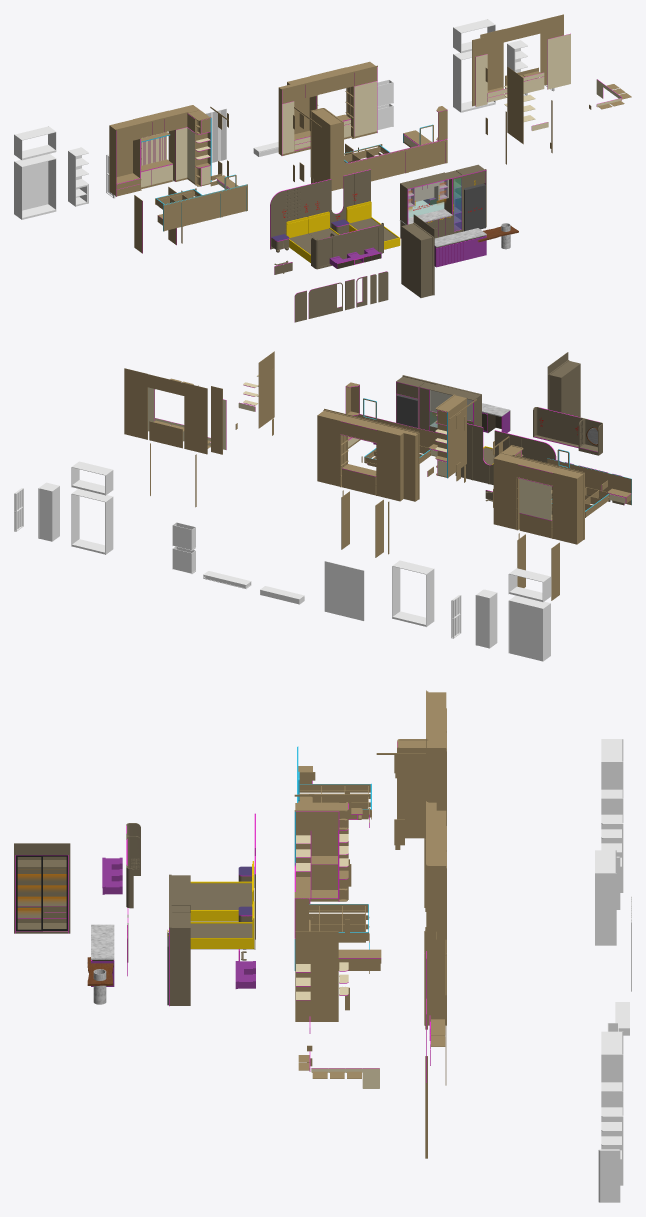
3 renders of one model, top to bottom at view 1: azimuth 30°, elevation 25°; view 2: azimuth 150°, elevation 25°; view 3: azimuth 270°, elevation 25°, orthographic. The views are drawn at different scales.
Visible parts, largest first — view 1: ABF_PART_32____LYR_[_HẬU]____32. Hậu, __LYR_[_REVIEW]__Group, __LYR_[_REVIEW]__Kệ tivi - _REVIEW, ABF_PART_361____LYR_[_VẬT_DỤNG]____361, ABF_PART_755____LYR_[Layer0]____755. Đầu giường <Chập đôi, c, ABF_PART_808____LYR_[Layer0]____808. Tủ áo - md 1 dưới - Hậu, ABF_PART_1462____LYR_[Layer0]____1462. Kệ tivi - Hậu, ABF_PART_1155____LYR_[Layer0]____1155. Đầu giường <Chập đôi,, ABF_PART_427____LYR_[Layer0]____427. Đầu giường <Chập đôi, c, ABF_PART_503____LYR_[Layer0]____503. Tủ áo - md 1 dưới - Hậu, ABF_PART_1477____LYR_[Layer0]____1477. Kệ tivi - Hậu, ABF_PART_707____LYR_[Layer0]____707. Hệ tủ áo - md 2 dưới -  (+27 smaller); view 2: ABF_PART_32____LYR_[_HẬU]____32. Hậu, ABF_PART_74____LYR_[Layer0]____74. Tấm nền, ABF_PART_728____LYR_[Layer0]____728. Hệ tủ áo - md dưới 3 - , ABF_PART_598____LYR_[Layer0]____598. Hệ tủ áo - md dưới 1 - , ABF_PART_552____LYR_[Layer0]____552. Hệ tủ áo - md 4 dưới - , ABF_PART_593____LYR_[Layer0]____593. Hệ tủ áo - md 2 dưới - , ABF_PART_679____LYR_[Layer0]____679. Hệ tủ áo - md 4 dưới - , ABF_PART_707____LYR_[Layer0]____707. Hệ tủ áo - md 2 dưới - , ABF_PART_1477____LYR_[Layer0]____1477. Kệ tivi - Hậu, ABF_PART_238____LYR_[Layer0]____238. Hệ tủ áo - Vách lam tiv, ABF_PART_808____LYR_[Layer0]____808. Tủ áo - md 1 dưới - Hậu, __LYR_[_REVIEW]__Kệ tivi - _REVIEW (+23 smaller); view 3: ABF_PART_808____LYR_[Layer0]____808. Tủ áo - md 1 dưới - Hậu, __LYR_[_REVIEW]__Group, ABF_PART_503____LYR_[Layer0]____503. Tủ áo - md 1 dưới - Hậu, ABF_PART_1357____LYR_[Layer0]____1357. Tủ lạnh - Hông phải, ABF_PART_22____LYR_[_THÙNG]____22. Hông trái, ABF_PART_786____LYR_[Layer0]____786. Hệ tủ áo - md dưới 4 - , ABF_PART_651____LYR_[Layer0]____651. Hệ tủ áo - md 4 dưới - , ABF_PART_661____LYR_[Layer0]____661. Hệ tủ áo - md 4 dưới - , ABF_PART_391____LYR_[Layer0]____391. Tấm cong, __LYR_[_REVIEW]__Kệ tivi - _REVIEW, ABF_PART_1361____LYR_[Layer0]____1361. Tủ áo - Hậu, ABF_PART_1425____LYR_[Layer0]____1425. Giường 2m bộc nệm - V (+5 smaller).
Boxes of the visible parts, <box> form: ABF_PART_32____LYR_[_HẬU]____32. Hậu: <box>18,160,48,210</box>; __LYR_[_REVIEW]__Group: <box>434,223,518,249</box>; __LYR_[_REVIEW]__Kệ tivi - _REVIEW: <box>311,223,383,269</box>; ABF_PART_361____LYR_[_VẬT_DỤNG]____361: <box>464,183,485,231</box>; ABF_PART_755____LYR_[Layer0]____755. Đầu giường <Chập đôi, c: <box>182,190,220,226</box>; ABF_PART_808____LYR_[Layer0]____808. Tủ áo - md 1 dưới - Hậu: <box>507,80,523,144</box>; ABF_PART_1462____LYR_[Layer0]____1462. Kệ tivi - Hậu: <box>308,283,342,318</box>; ABF_PART_1155____LYR_[Layer0]____1155. Đầu giường <Chập đôi,: <box>363,148,406,181</box>; ABF_PART_427____LYR_[Layer0]____427. Đầu giường <Chập đôi, c: <box>407,139,446,171</box>; ABF_PART_503____LYR_[Layer0]____503. Tủ áo - md 1 dưới - Hậu: <box>314,127,330,181</box>; ABF_PART_1477____LYR_[Layer0]____1477. Kệ tivi - Hậu: <box>339,224,380,259</box>; ABF_PART_707____LYR_[Layer0]____707. Hệ tủ áo - md 2 dưới - : <box>484,43,503,90</box>; ABF_PART_32____LYR_[_HẬU]____32. Hậu: <box>509,600,542,661</box>; ABF_PART_74____LYR_[Layer0]____74. Tấm nền: <box>336,564,363,620</box>; ABF_PART_728____LYR_[Layer0]____728. Hệ tủ áo - md dưới 3 - : <box>493,472,518,529</box>; ABF_PART_598____LYR_[Layer0]____598. Hệ tủ áo - md dưới 1 - : <box>553,486,577,544</box>; ABF_PART_552____LYR_[Layer0]____552. Hệ tủ áo - md 4 dưới - : <box>317,429,340,486</box>; ABF_PART_593____LYR_[Layer0]____593. Hệ tủ áo - md 2 dưới - : <box>377,443,400,501</box>; ABF_PART_679____LYR_[Layer0]____679. Hệ tủ áo - md 4 dưới - : <box>124,382,147,439</box>; ABF_PART_707____LYR_[Layer0]____707. Hệ tủ áo - md 2 dưới - : <box>184,396,207,454</box>; ABF_PART_1477____LYR_[Layer0]____1477. Kệ tivi - Hậu: <box>539,407,580,445</box>; ABF_PART_238____LYR_[Layer0]____238. Hệ tủ áo - Vách lam tiv: <box>519,478,546,519</box>; ABF_PART_808____LYR_[Layer0]____808. Tủ áo - md 1 dưới - Hậu: <box>258,365,274,428</box>; __LYR_[_REVIEW]__Kệ tivi - _REVIEW: <box>533,407,602,455</box>; ABF_PART_808____LYR_[Layer0]____808. Tủ áo - md 1 dưới - Hậu: <box>295,950,338,1021</box>; __LYR_[_REVIEW]__Group: <box>87,924,114,1004</box>; ABF_PART_503____LYR_[Layer0]____503. Tủ áo - md 1 dưới - Hậu: <box>296,830,337,889</box>; ABF_PART_1357____LYR_[Layer0]____1357. Tủ lạnh - Hông phải: <box>169,927,190,1005</box>; ABF_PART_22____LYR_[_THÙNG]____22. Hông trái: <box>595,873,616,945</box>; ABF_PART_786____LYR_[Layer0]____786. Hệ tủ áo - md dưới 4 - : <box>405,766,426,838</box>; ABF_PART_651____LYR_[Layer0]____651. Hệ tủ áo - md 4 dưới - : <box>424,953,446,1025</box>; ABF_PART_661____LYR_[Layer0]____661. Hệ tủ áo - md 4 dưới - : <box>428,884,445,956</box>; ABF_PART_391____LYR_[Layer0]____391. Tấm cong: <box>598,1149,620,1202</box>; __LYR_[_REVIEW]__Kệ tivi - _REVIEW: <box>126,823,140,908</box>; ABF_PART_1361____LYR_[Layer0]____1361. Tủ áo - Hậu: <box>17,857,41,922</box>; ABF_PART_1425____LYR_[Layer0]____1425. Giường 2m bộc nệm - V: <box>190,923,252,937</box>.
Bounding box in the file's own units: 23.14 × 5.41 × 17.04.
Materials: 27 (6 with a texture image).
